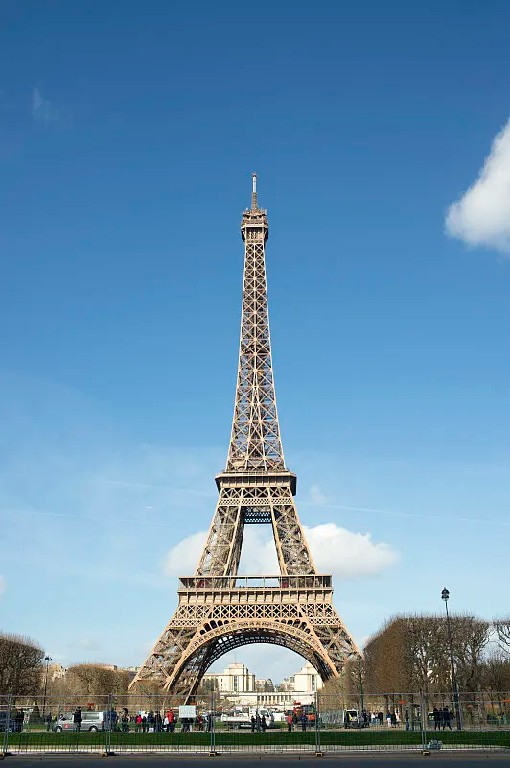Eiffel: (126, 173, 366, 716)
